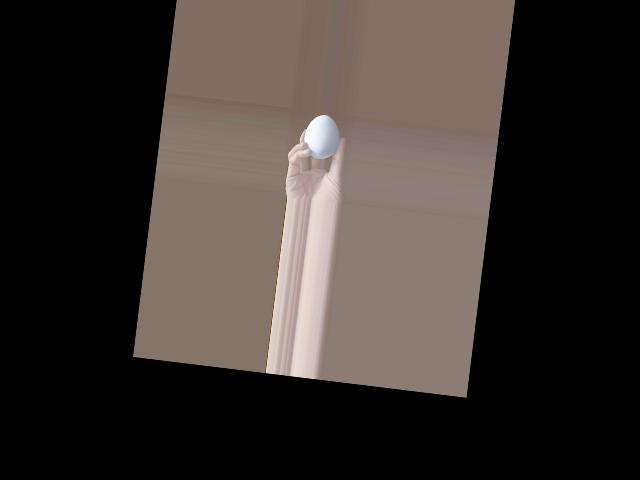egg: (301, 112, 341, 160)
